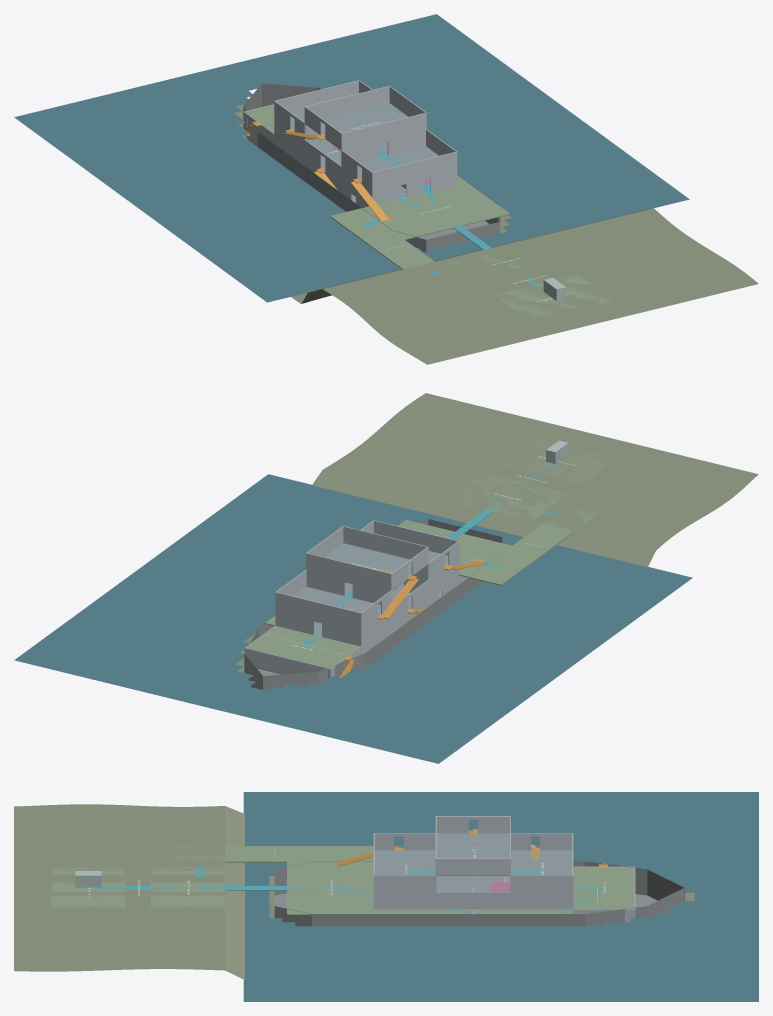
File: rough-shell.glb
3 views of the same model, one above another, from view 1: azimuth 30°, elevation 25°; view 2: azimuth 150°, elevation 25°; view 3: azimuth 270°, elevation 25° (orthographic).
Visible parts, largest first — view 1: WATER PLACEHOLDER / layers and transparency pending, Authored quay terrain, Floor aft, Pointed retired vessel hull / empty interior, Floor portpier, Floor stage, Wall bridge S, Wall crew S, Wall bridge N, Wall net N, Floor bridge, Floor crew (+2 smaller); view 2: WATER PLACEHOLDER / layers and transparency pending, Authored quay terrain, Pointed retired vessel hull / empty interior, Floor portpier, Floor quay, Floor aft, Floor stage, Wall bridge N, Wall net N, Wall bridge S, Wall crew S, Floor bridge.002 (+8 smaller); view 3: WATER PLACEHOLDER / layers and transparency pending, Authored quay terrain, Pointed retired vessel hull / empty interior, Floor aft, Floor portpier, Wall processing E, Floor quay, Floor stage, Floor net, Wall bridge E, Wall net E, Wall mess E (+17 smaller).
Boxes of the visible parts, x1,y1,x2,y2 form: WATER PLACEHOLDER / layers and transparency pending: [14, 14, 689, 302]; Authored quay terrain: [234, 104, 758, 364]; Floor aft: [362, 182, 509, 239]; Pointed retired vessel hull / empty interior: [243, 83, 500, 251]; Floor portpier: [330, 208, 456, 286]; Floor stage: [495, 275, 614, 321]; Wall bridge S: [341, 113, 426, 149]; Wall crew S: [372, 151, 456, 188]; Wall bridge N: [305, 86, 389, 118]; Wall net N: [274, 80, 358, 113]; Floor bridge: [305, 103, 403, 135]; Floor crew: [358, 146, 438, 177]; WATER PLACEHOLDER / layers and transparency pending: [14, 474, 692, 763]; Authored quay terrain: [235, 393, 758, 686]; Pointed retired vessel hull / empty interior: [244, 519, 502, 690]; Floor portpier: [469, 505, 598, 585]; Floor quay: [448, 473, 567, 520]; Floor aft: [398, 520, 511, 577]; Floor stage: [497, 438, 617, 484]; Wall bridge N: [306, 553, 391, 590]; Wall net N: [275, 592, 360, 629]; Wall bridge S: [343, 526, 427, 559]; Wall crew S: [374, 520, 458, 555]; Floor bridge.002: [328, 543, 427, 575]; WATER PLACEHOLDER / layers and transparency pending: [243, 792, 758, 1001]; Authored quay terrain: [14, 804, 694, 979]; Pointed retired vessel hull / empty interior: [274, 861, 684, 926]; Floor aft: [287, 861, 373, 914]; Floor portpier: [175, 846, 373, 862]; Wall processing E: [436, 892, 572, 909]; Floor quay: [150, 867, 224, 908]; Floor stage: [51, 867, 125, 908]; Floor net: [511, 850, 572, 874]; Wall bridge E: [436, 858, 510, 875]; Wall net E: [510, 875, 572, 892]; Wall mess E: [374, 892, 435, 909].
Bounding box in the file's own units: 80 × 14.25 × 120.
